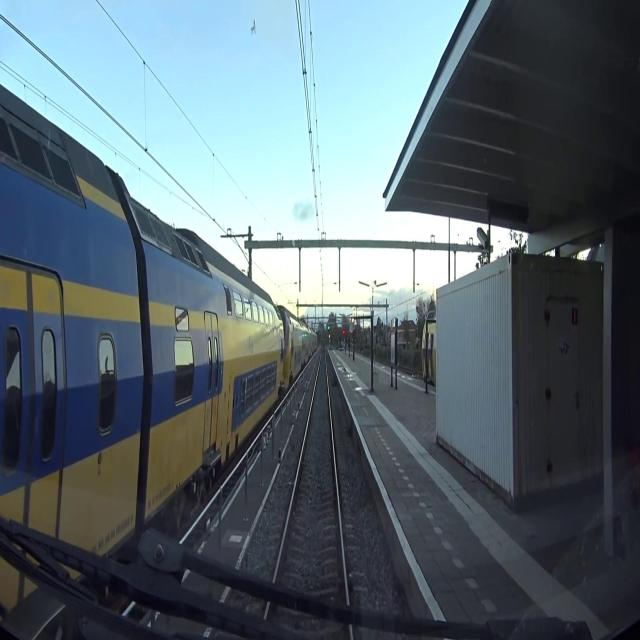rail-track: (278, 354, 344, 598)
